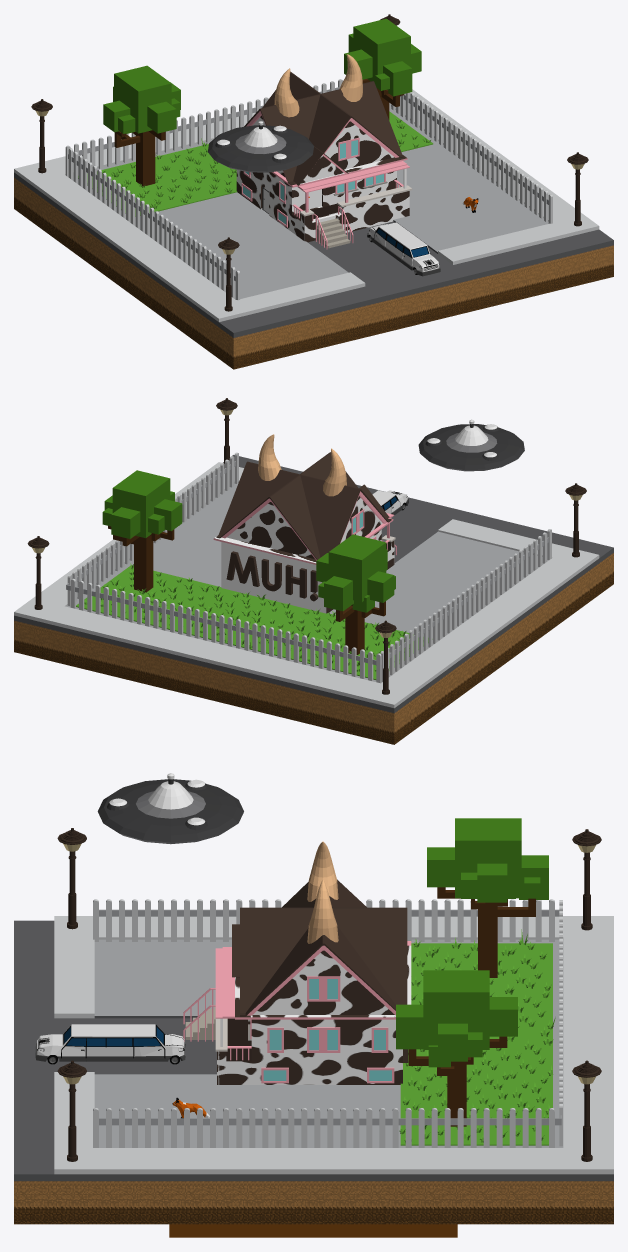
3 renders of one model, top to bottom at view 1: azimuth 30°, elevation 25°; view 2: azimuth 150°, elevation 25°; view 3: azimuth 270°, elevation 25°, orthographic. The views are drawn at different scales.
Visible parts, largest first — view 1: Cube.004, Cube.1242, OBJRANDOM_UFO, VEHICLES_LIMOUSINE; view 2: Cube.004, Cube.1242, OBJRANDOM_UFO, VEHICLES_LIMOUSINE; view 3: Cube.004, Cube.1242, OBJRANDOM_UFO, VEHICLES_LIMOUSINE, UNDERGROUND_ART_PIECE_VAN_GOGH.
Boxes of the visible parts, x1,y1,x2,y2 form: Cube.004: [14, 14, 613, 369]; Cube.1242: [236, 54, 412, 249]; OBJRANDOM_UFO: [208, 121, 313, 172]; VEHICLES_LIMOUSINE: [367, 222, 440, 276]; Cube.004: [14, 398, 613, 744]; Cube.1242: [213, 434, 396, 613]; OBJRANDOM_UFO: [418, 419, 524, 471]; VEHICLES_LIMOUSINE: [372, 490, 408, 514]; Cube.004: [14, 818, 613, 1224]; Cube.1242: [183, 841, 411, 1084]; OBJRANDOM_UFO: [97, 773, 243, 844]; VEHICLES_LIMOUSINE: [35, 1024, 185, 1064]; UNDERGROUND_ART_PIECE_VAN_GOGH: [169, 1224, 457, 1237].
Size of the model in its own units: 4000 by 2067 by 4000.
37 materials, 4 textured.
